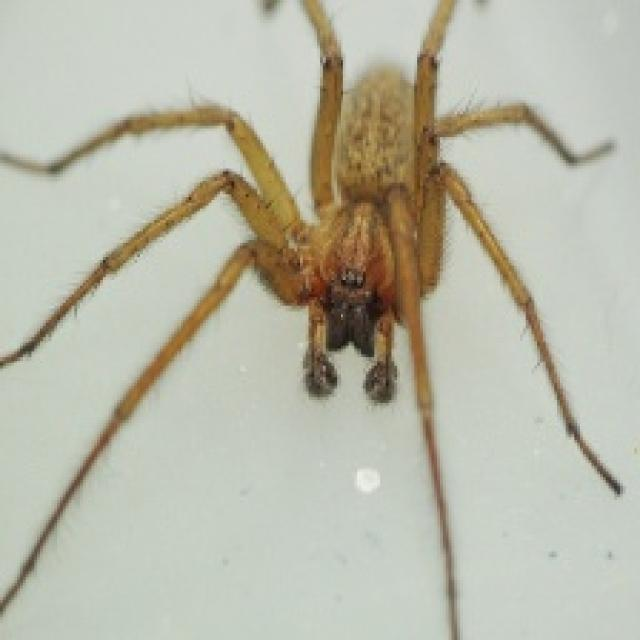Venomous spider: (147, 60, 591, 466)
